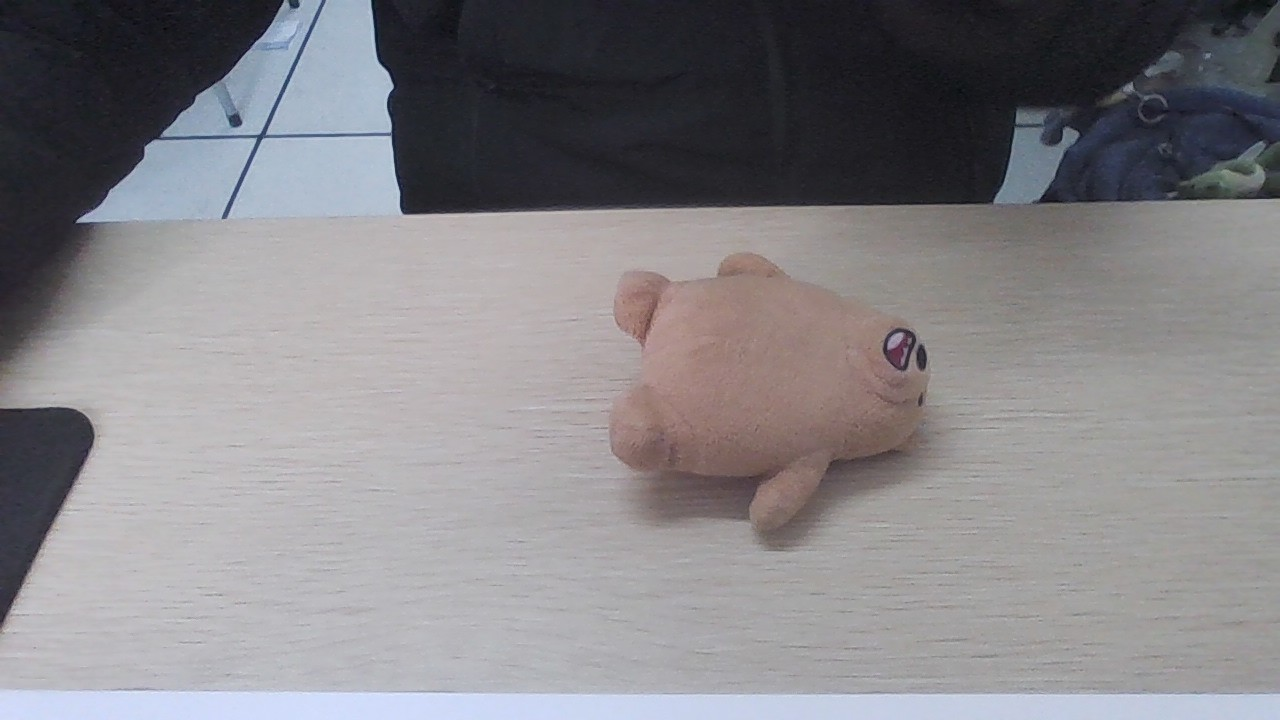KHS-doll: (622, 248, 916, 512)
